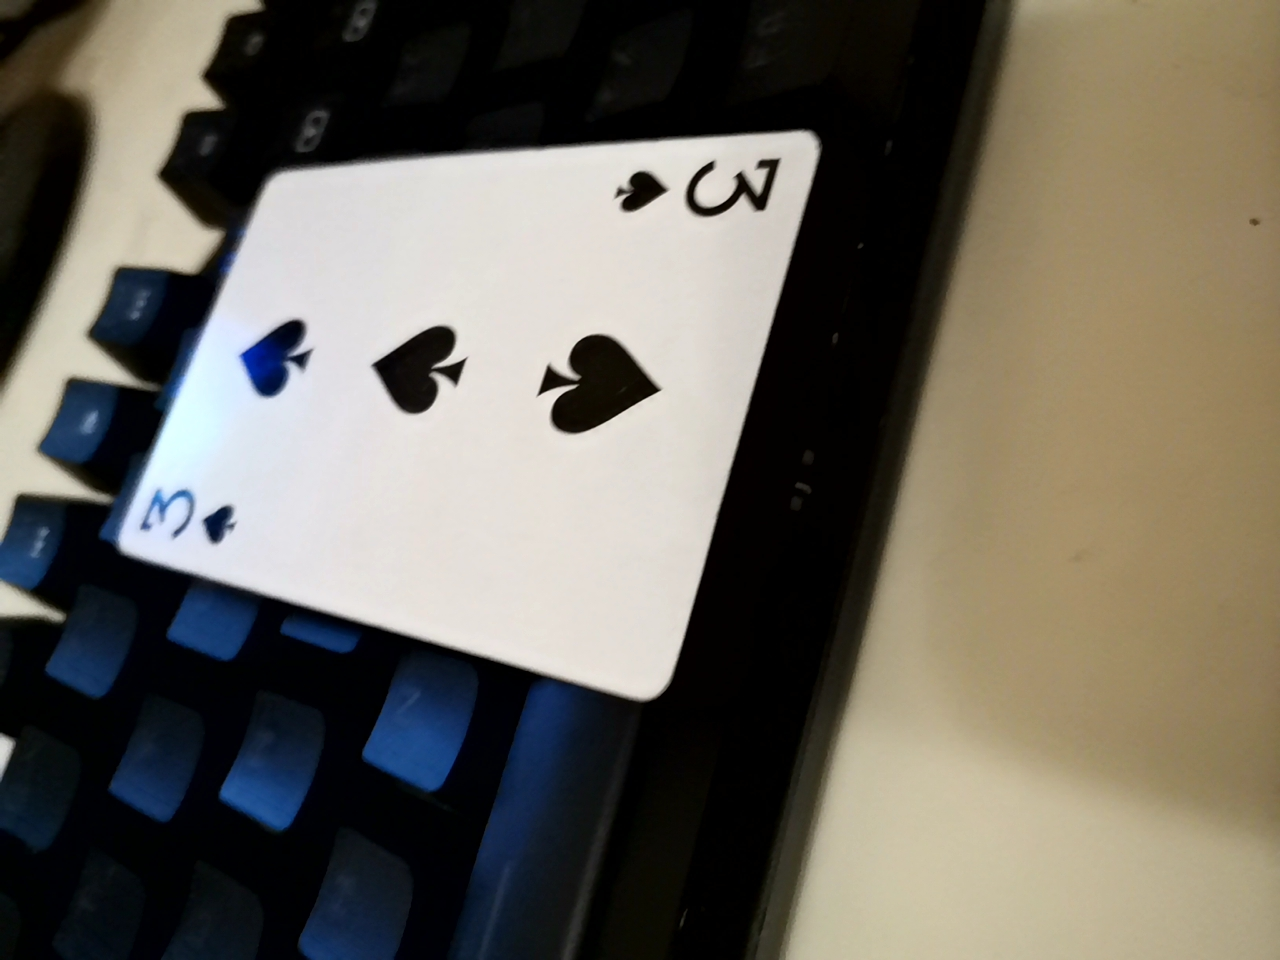ht 3: (140, 152, 849, 738)
